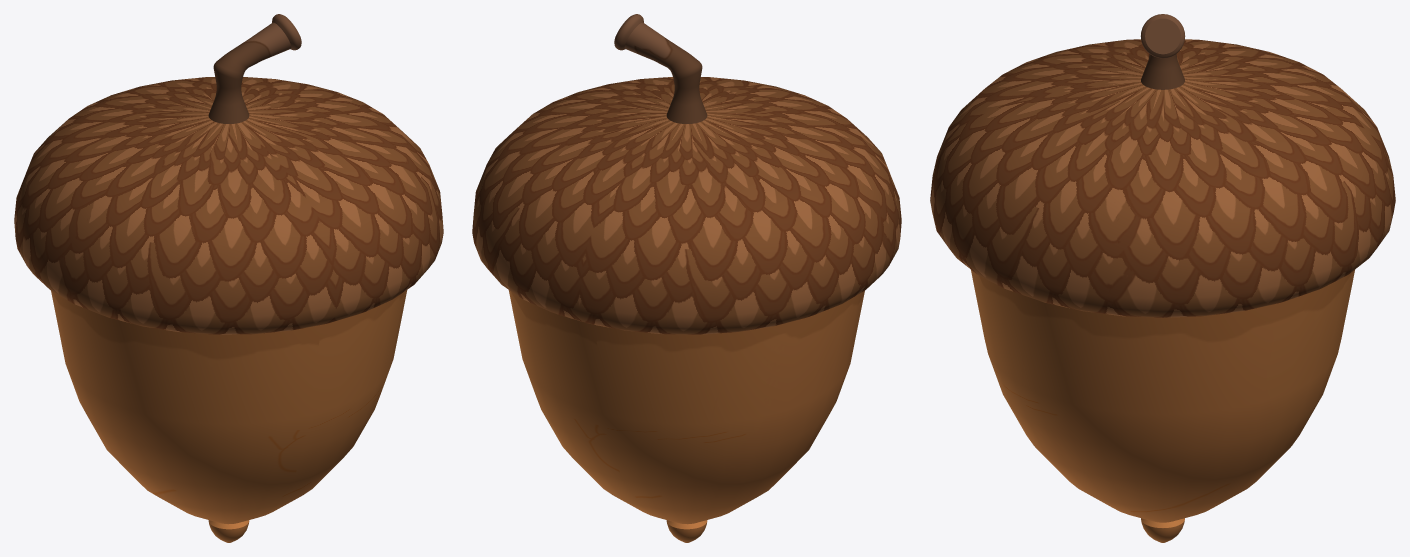
The model's file is biji.fbx.
The picture shows the model from 3 angles, left to right: view 1: azimuth 30°, elevation 25°; view 2: azimuth 150°, elevation 25°; view 3: azimuth 270°, elevation 25°; orthographic projection. The views are drawn at different scales.
Visible parts, largest first — view 1: Cylinder; view 2: Cylinder; view 3: Cylinder.
Part boxes in pixels (x1,y1,x2,y2): Cylinder: (14,14,443,542); Cylinder: (472,14,901,542); Cylinder: (930,14,1395,542).
Bounding box in the file's own units: 5.62 × 7.39 × 5.62.
1 material, 1 textured.
